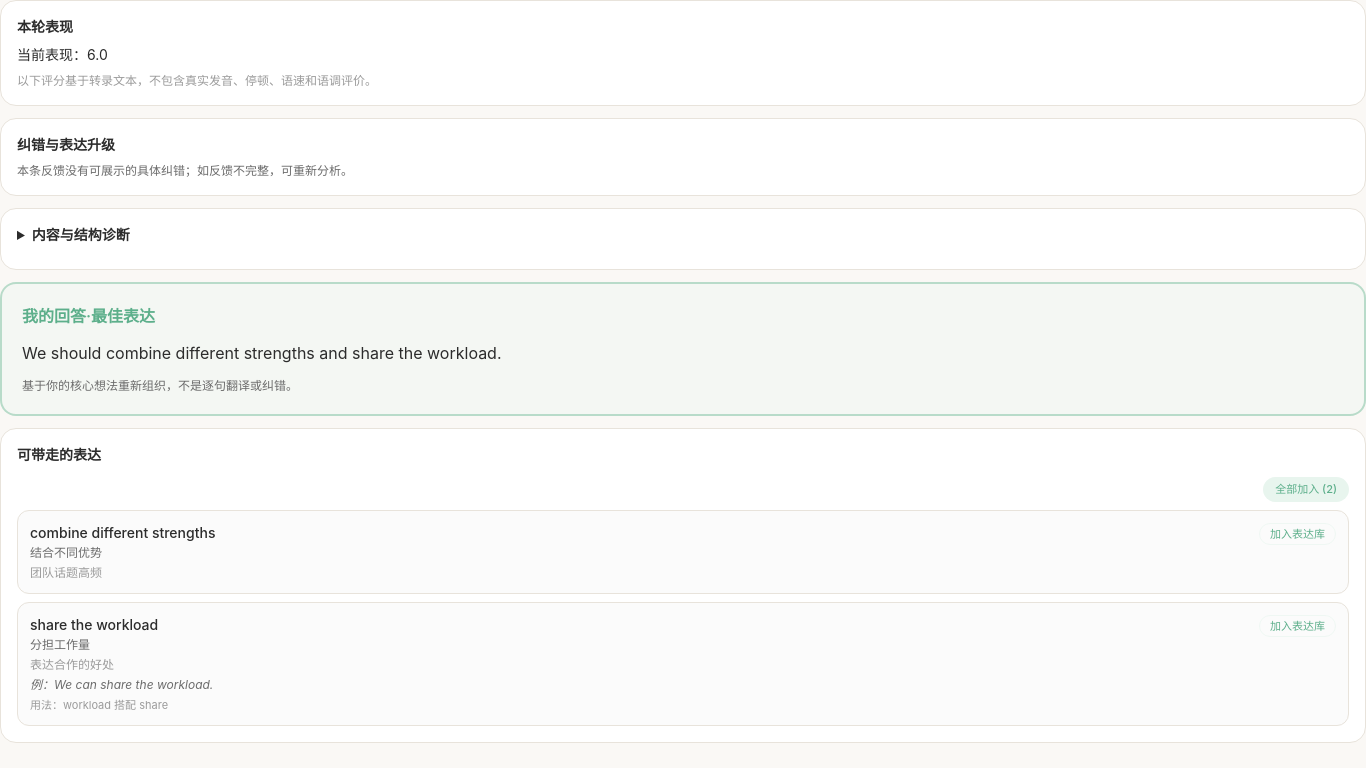
takeaway → expression bank add flow › surfaces a save error and returns the item to idle
Click the 1st button "加入表达库". click: click(1298, 534)
box: x1=1259 y1=522 x2=1336 y2=545
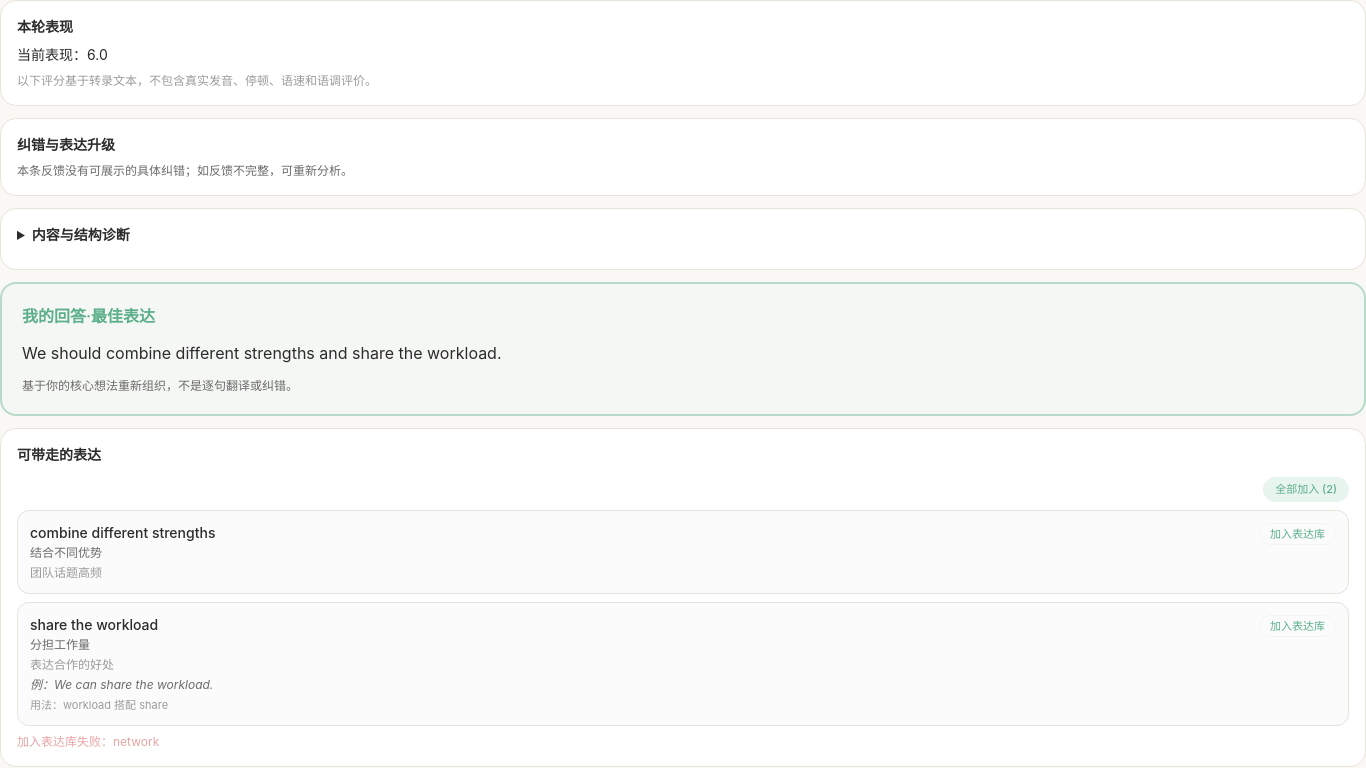
Expected: the number of buttons "加入表达库" is 2, x1=1259 y1=522 x2=1336 y2=545; x1=1259 y1=614 x2=1336 y2=637
Expected: the text "加入表达库失败：network" is shown, x1=17 y1=734 x2=159 y2=749
